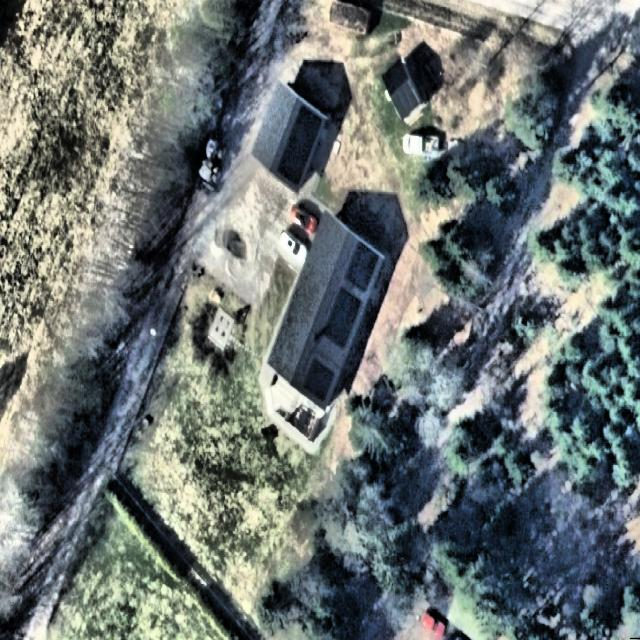roof_pv: (277, 103, 324, 186), (323, 286, 364, 352), (344, 240, 383, 295), (299, 356, 336, 402)
